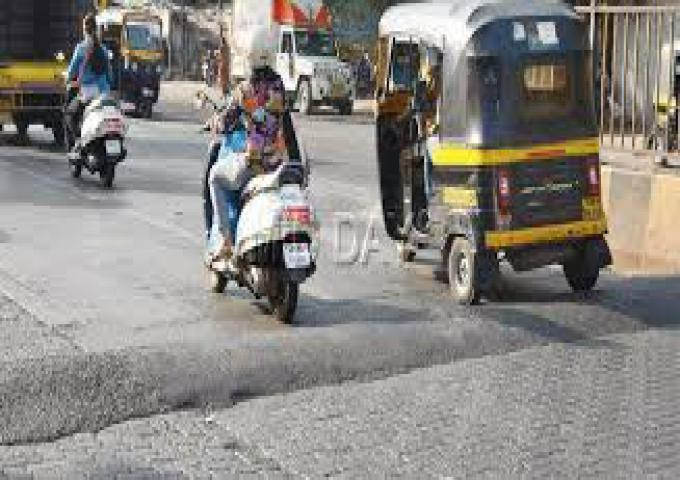Speed_Breaker: (1, 258, 680, 457), (0, 272, 679, 442)
